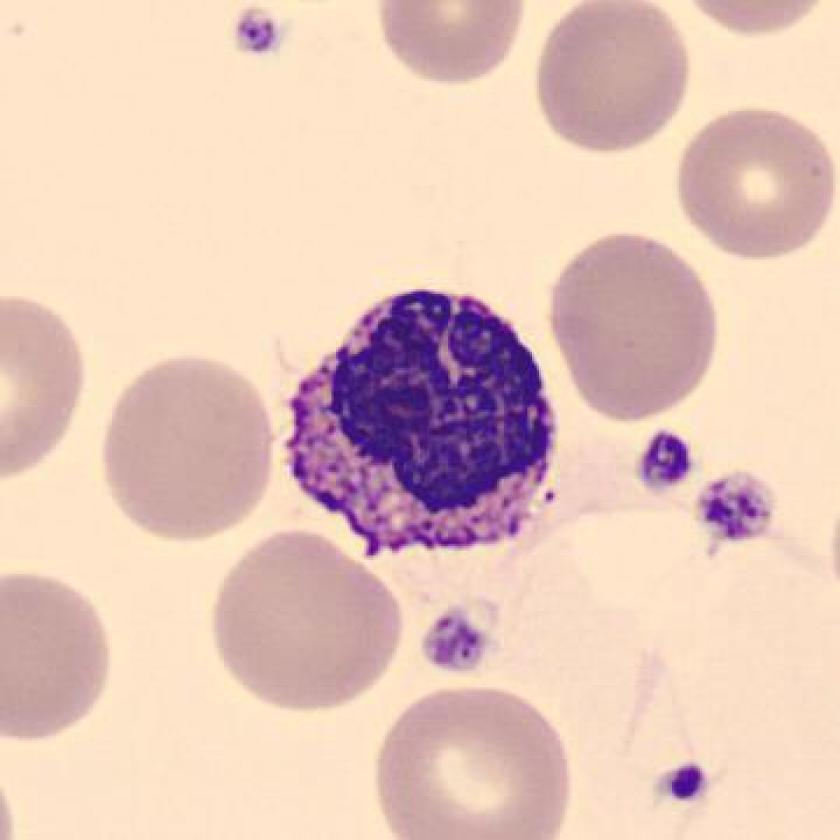basophil: (272, 279, 587, 561)
